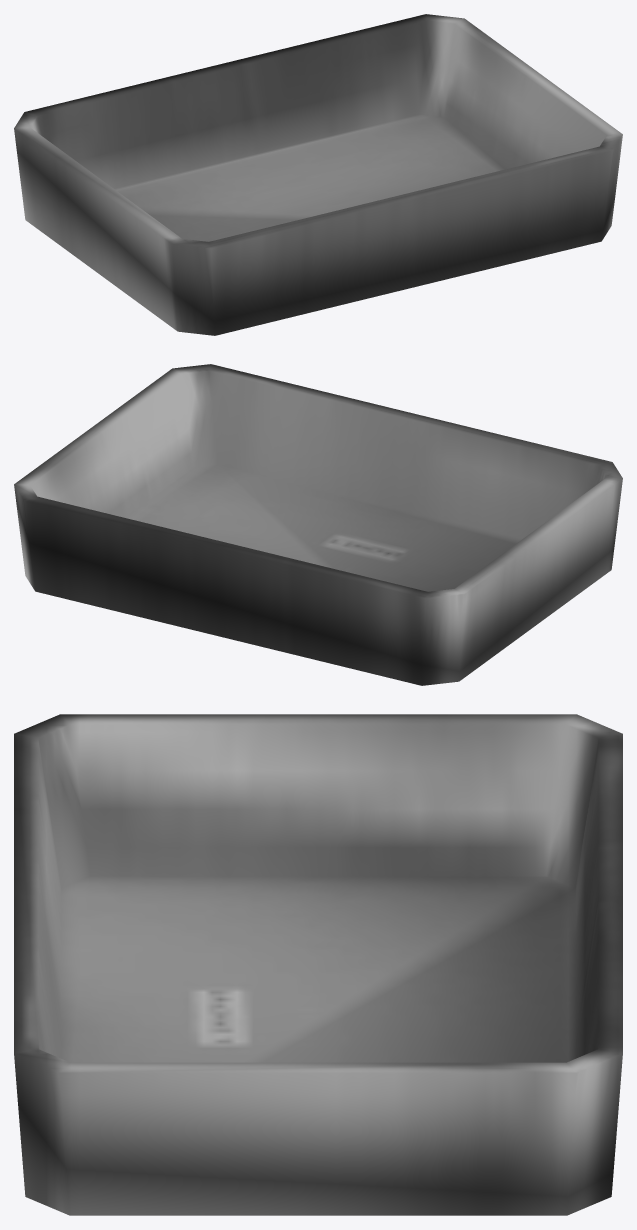
File: organ_pan.FBX
3 renders of one model, top to bottom at view 1: azimuth 30°, elevation 25°; view 2: azimuth 150°, elevation 25°; view 3: azimuth 270°, elevation 25°, orthographic. The views are drawn at different scales.
Visible parts, largest first — view 1: organ_pan; view 2: organ_pan; view 3: organ_pan.
Part boxes in pixels (<box>): organ_pan: <box>14,14,622,335</box>; organ_pan: <box>14,364,622,685</box>; organ_pan: <box>14,714,622,1215</box>.
Size of the model in its own units: 46.58 by 9.05 by 33.42.
